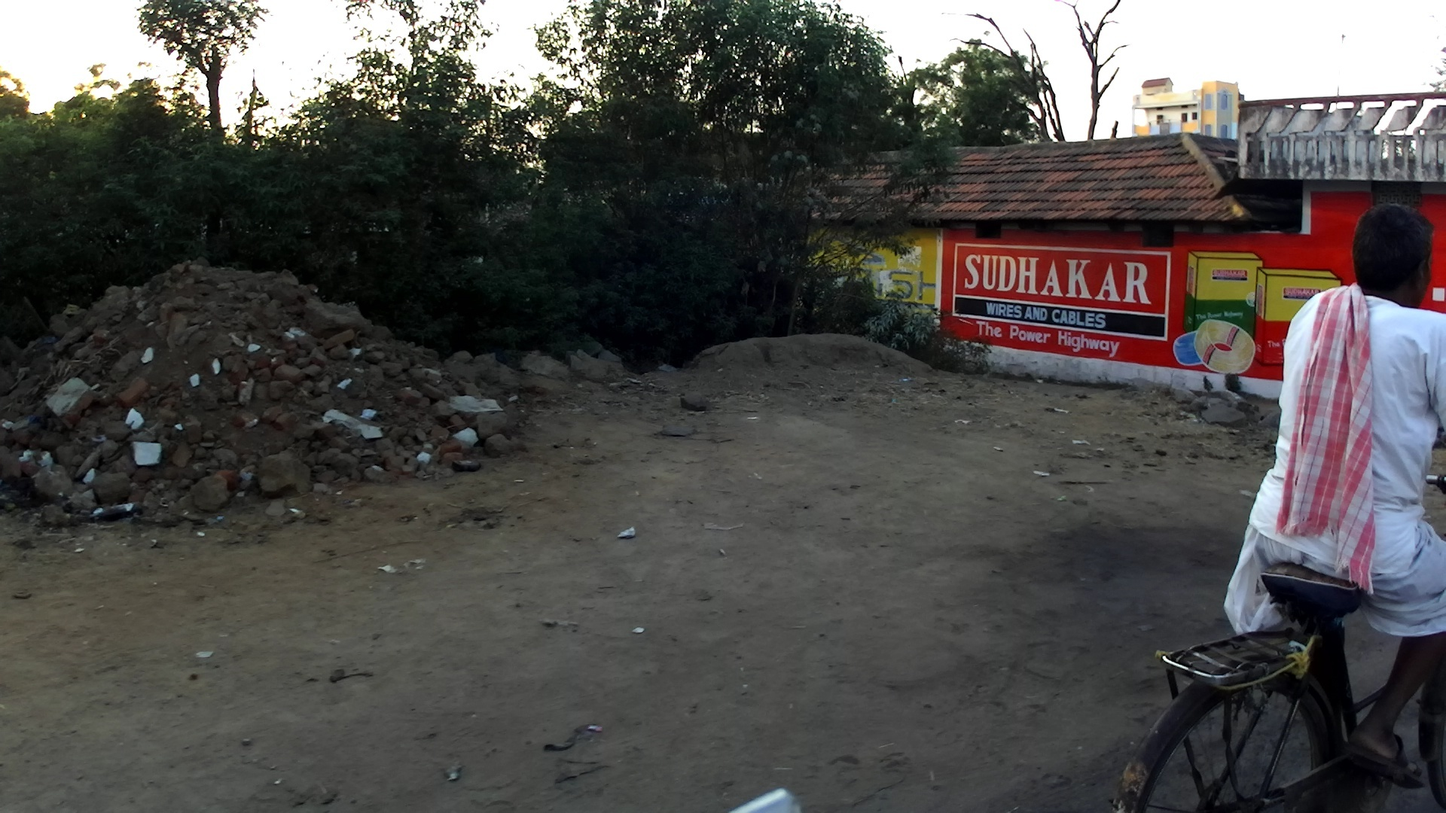bicycle: (1109, 472, 1446, 813)
rider: (1222, 206, 1446, 790)
